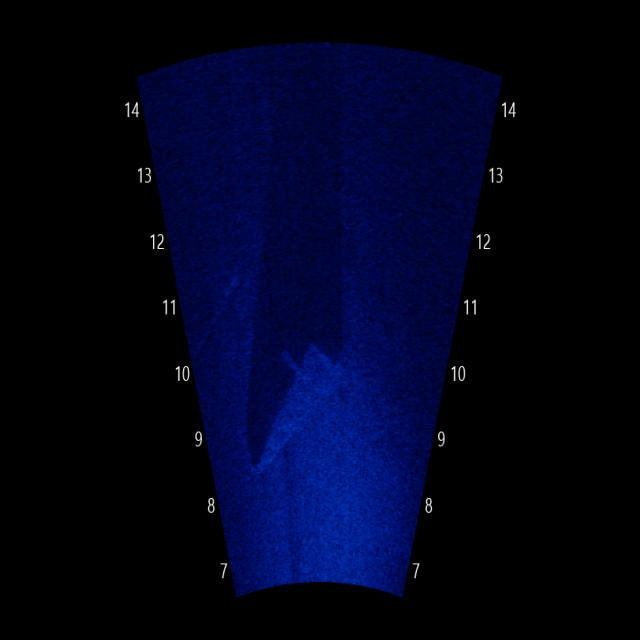triangle: (242, 312, 352, 488)
